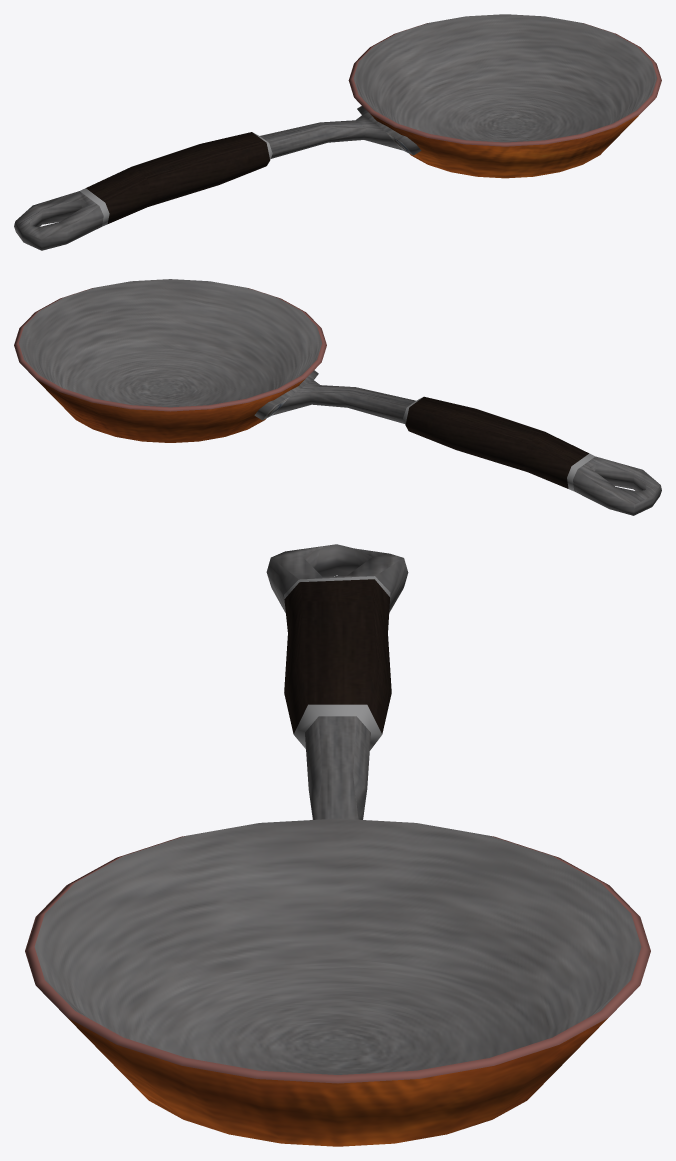
Rendered from FrypanSmall.fbx.
3 views of the same model, one above another, from view 1: azimuth 30°, elevation 25°; view 2: azimuth 150°, elevation 25°; view 3: azimuth 270°, elevation 25° (orthographic). The views are drawn at different scales.
Visible parts, largest first — view 1: FryPan_small_LOD0; view 2: FryPan_small_LOD0; view 3: FryPan_small_LOD0.
Boxes of the visible parts, x1=… form: FryPan_small_LOD0: x1=14, y1=14, x2=661, y2=250; FryPan_small_LOD0: x1=14, y1=279, x2=661, y2=515; FryPan_small_LOD0: x1=25, y1=544, x2=650, y2=1146.
Size of what is drawn, in the model's own units: 98.78 by 8.37 by 43.31.
